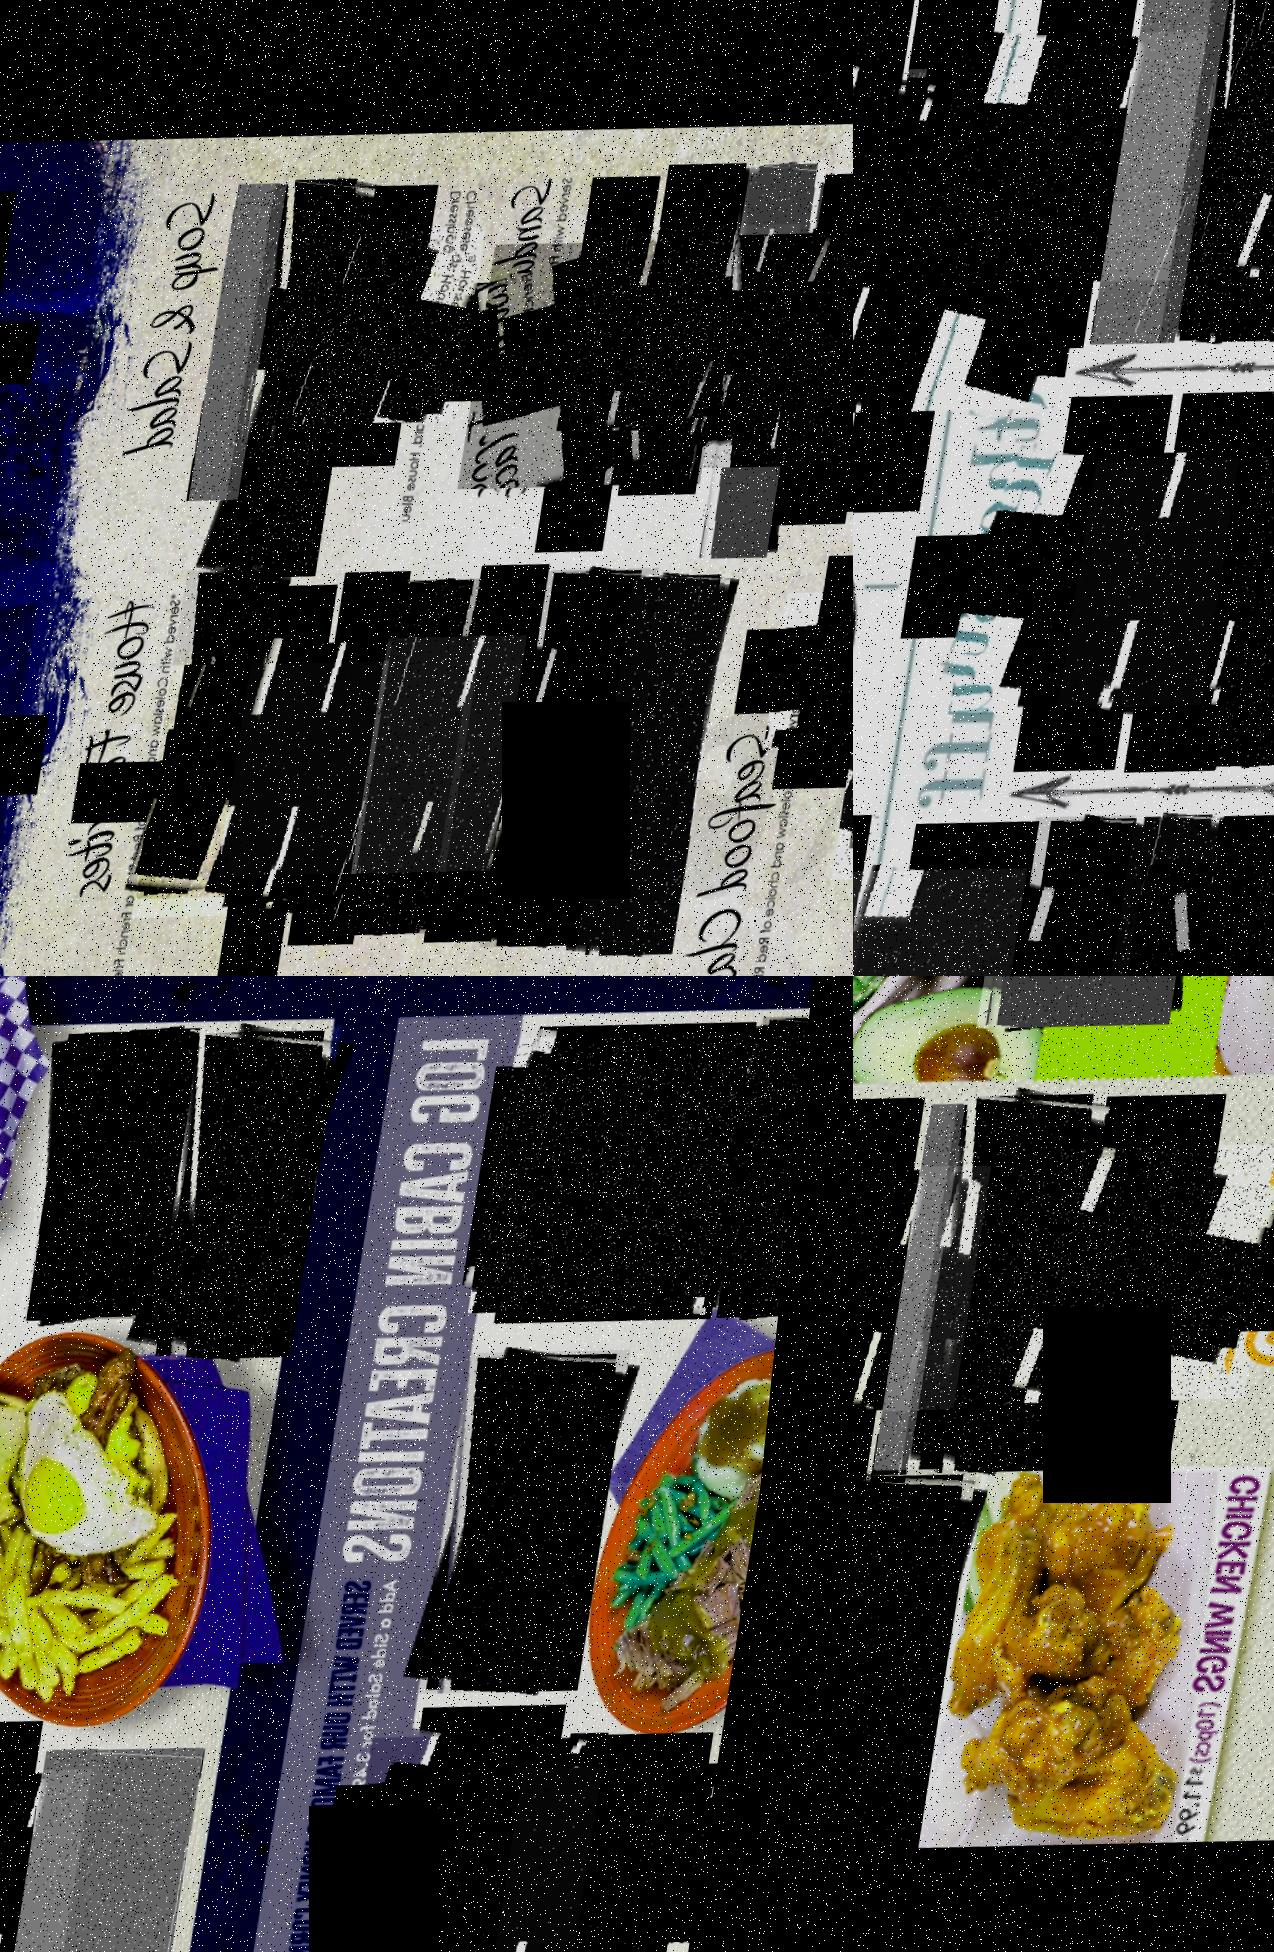Menu-Items: (853, 60, 1123, 430), (484, 1036, 796, 1340), (968, 444, 1261, 731), (925, 1087, 1132, 1485), (155, 656, 441, 936), (935, 23, 1218, 300), (437, 1357, 651, 1716), (473, 240, 749, 511), (1018, 1140, 1274, 1421), (373, 632, 642, 895), (157, 1029, 353, 1376), (504, 573, 678, 965), (239, 637, 501, 895), (231, 179, 386, 589), (853, 1461, 1004, 1867), (366, 1736, 636, 1952), (601, 582, 750, 973), (33, 1029, 219, 1337), (1079, 450, 1274, 726), (578, 228, 811, 457), (706, 172, 837, 576), (1106, 0, 1243, 351), (372, 583, 501, 948), (278, 226, 497, 441), (159, 569, 298, 908), (853, 1157, 1012, 1427), (520, 1770, 746, 1952), (31, 1747, 232, 1952), (853, 0, 927, 525), (715, 235, 853, 494), (1174, 0, 1274, 354), (853, 856, 1122, 976), (898, 1105, 984, 1480), (853, 63, 938, 414), (204, 186, 296, 508), (735, 1031, 821, 1337), (1016, 814, 1179, 976), (0, 1766, 120, 1952), (1116, 814, 1248, 976), (1214, 20, 1274, 296), (1139, 856, 1274, 976), (789, 230, 853, 472), (1238, 393, 1274, 778), (784, 598, 853, 771), (853, 811, 905, 976), (0, 189, 24, 515)
